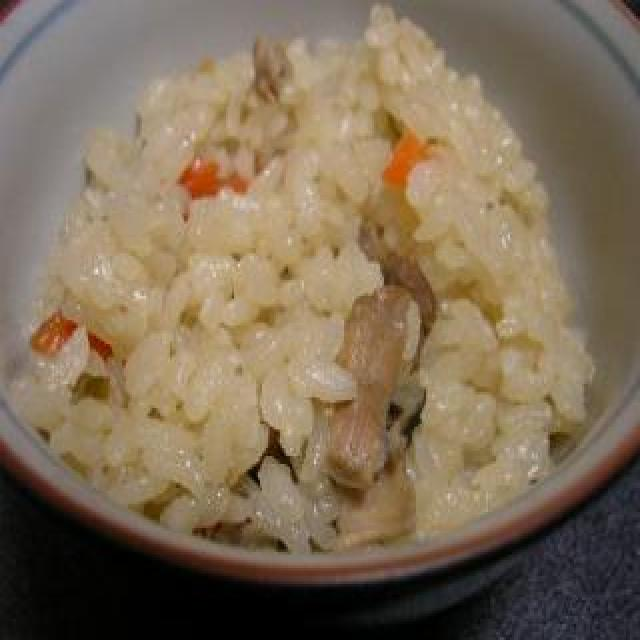米饭主食: (32, 0, 588, 555)
